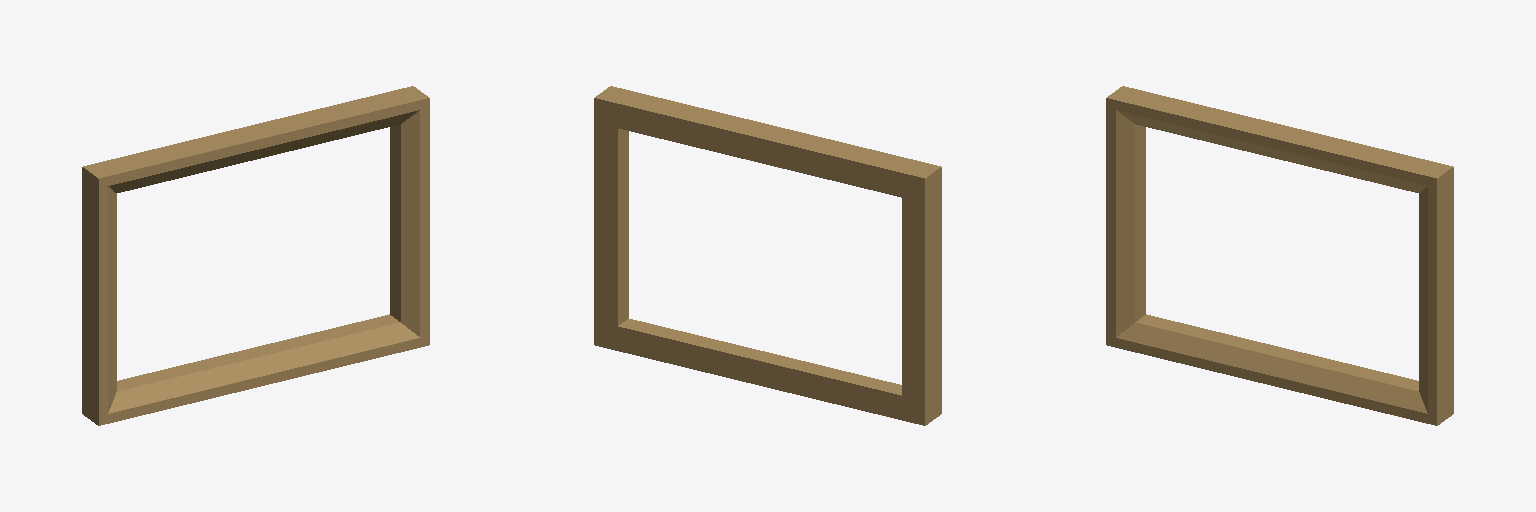
3 views of the same model, side by side, from view 1: azimuth 30°, elevation 25°; view 2: azimuth 150°, elevation 25°; view 3: azimuth 330°, elevation 25° (orthographic).
Parts seen in each view (by area): view 1: frame2; view 2: frame2; view 3: frame2.
Part boxes in pixels (bbox=[...]): frame2: bbox=[82, 86, 429, 425]; frame2: bbox=[594, 86, 941, 425]; frame2: bbox=[1106, 86, 1453, 425].
Bounding box in the file's own units: 35 × 25 × 3.
1 materials, 1 textured.